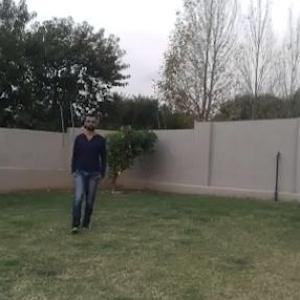follow: (70, 116, 99, 230)
